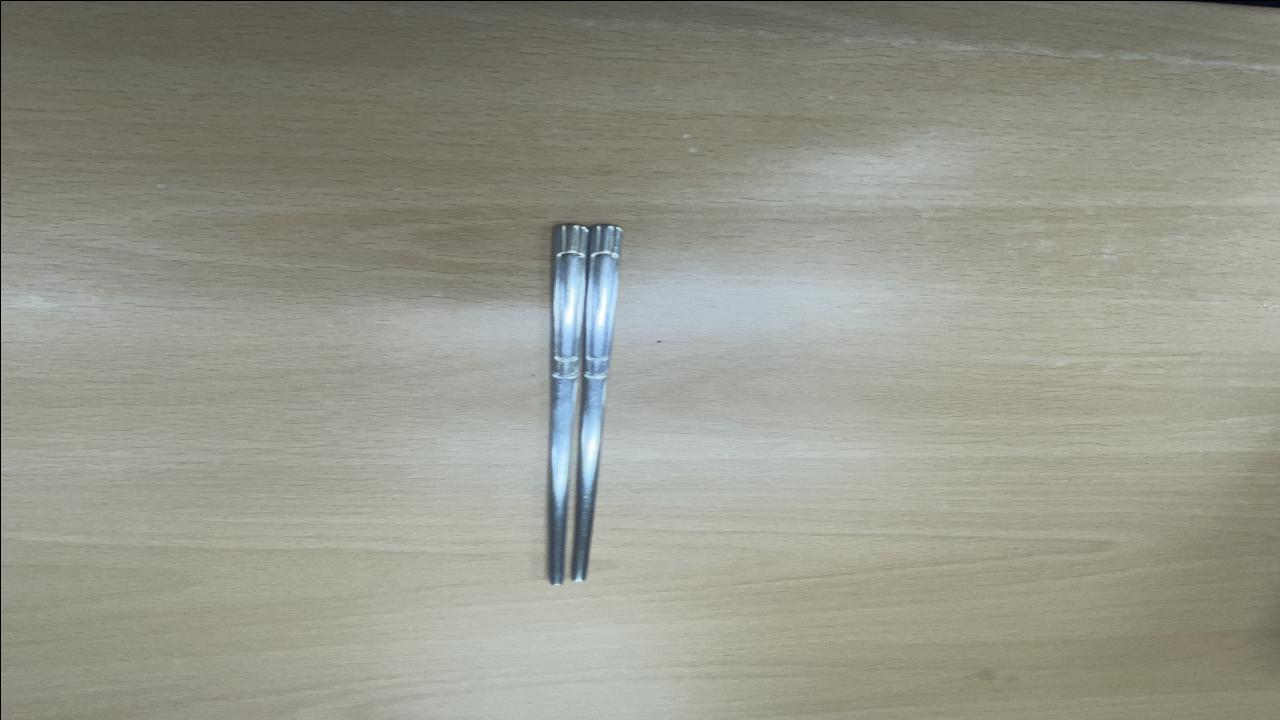chopstick: (541, 218, 627, 588)
